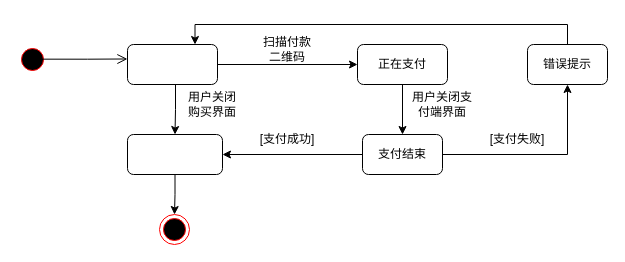
The diagram is 625 pixels wide and 262 high, and some of its shapes have lost their labels. The shapes that lost their labels are listed below. From the top down, each one's box as (x1, y1, x2, y2) in pixels, then its label:
(126, 44, 218, 84): 待支付
(126, 134, 222, 174): 购买结束
